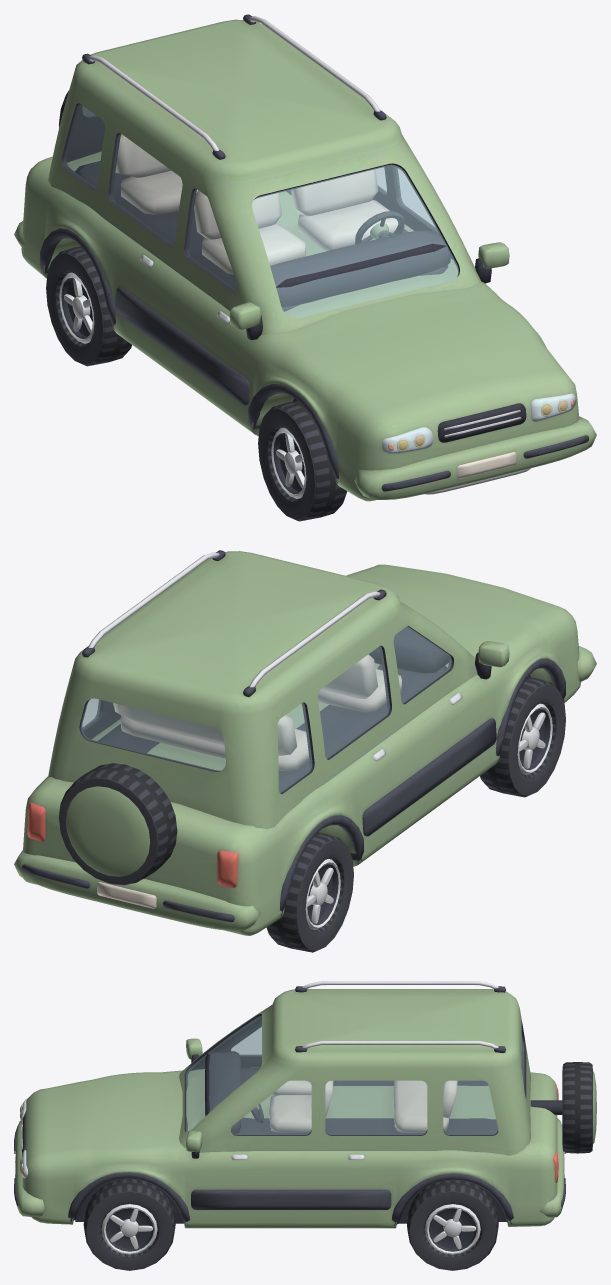
Rendered from 1990s-suv.glb.
The picture shows the model from 3 angles, top to bottom: view 1: azimuth 30°, elevation 25°; view 2: azimuth 150°, elevation 25°; view 3: azimuth 270°, elevation 25°; orthographic projection. The views are drawn at different scales.
Parts seen in each view (by area): view 1: 1990s-suv_body, 1990s-suv_windows, 1990s-suv_wheel_fr, 1990s-suv_wheel_rr; view 2: 1990s-suv_body, 1990s-suv_windows, 1990s-suv_spare_tyre, 1990s-suv_wheel_rr, 1990s-suv_wheel_fr; view 3: 1990s-suv_body, 1990s-suv_windows, 1990s-suv_wheel_fl, 1990s-suv_wheel_rl, 1990s-suv_spare_tyre.
Boxes of the visible parts, <box> form: 1990s-suv_body: <box>14,14,596,501</box>; 1990s-suv_windows: <box>64,103,458,317</box>; 1990s-suv_wheel_fr: <box>258,400,347,521</box>; 1990s-suv_wheel_rr: <box>46,246,131,366</box>; 1990s-suv_body: <box>14,550,596,935</box>; 1990s-suv_windows: <box>81,626,451,792</box>; 1990s-suv_spare_tyre: <box>58,763,177,885</box>; 1990s-suv_wheel_rr: <box>266,832,353,952</box>; 1990s-suv_wheel_fr: <box>480,677,565,797</box>; 1990s-suv_body: <box>14,981,565,1228</box>; 1990s-suv_windows: <box>186,1015,523,1134</box>; 1990s-suv_wheel_fl: <box>83,1178,175,1270</box>; 1990s-suv_wheel_rl: <box>407,1180,498,1270</box>; 1990s-suv_spare_tyre: <box>530,1062,596,1153</box>.
Size of the model in its own units: 1.95 by 1.91 by 4.69.
24 materials, 6 textured.
